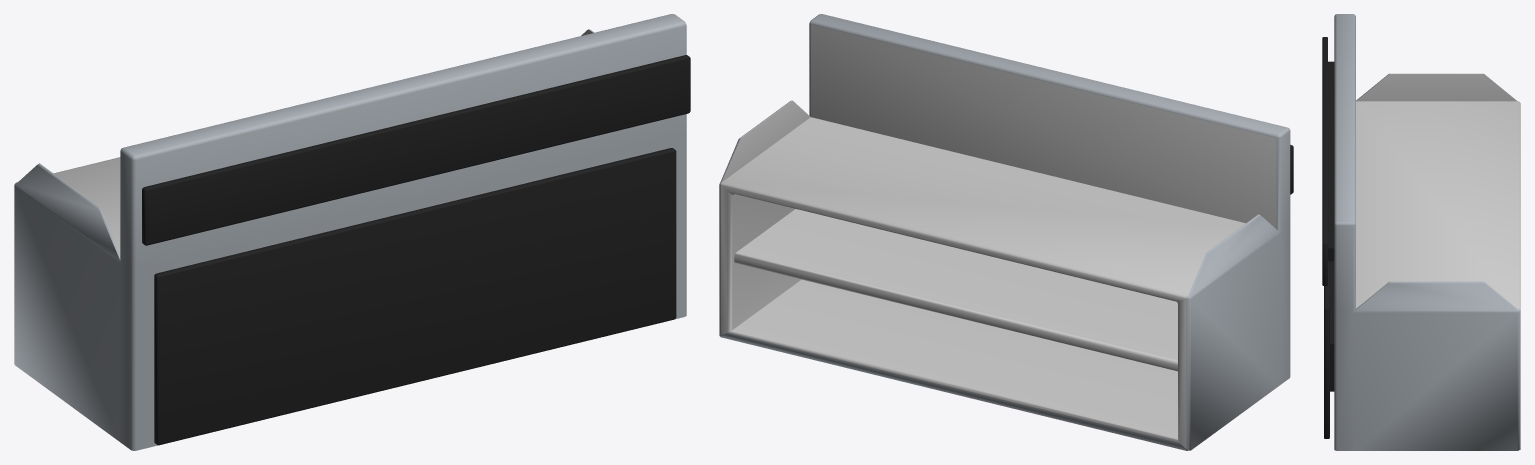
File: Vault-Section-Cabinet-3.fbx
3 renders of one model, left to right at view 1: azimuth 30°, elevation 25°; view 2: azimuth 150°, elevation 25°; view 3: azimuth 270°, elevation 25°, orthographic. The views are drawn at different scales.
Parts seen in each view (by area): view 1: Vault-Section-Cabinet-2; view 2: Vault-Section-Cabinet-2; view 3: Vault-Section-Cabinet-2.
Boxes of the visible parts, box(x1,y1,x2,y2) form: Vault-Section-Cabinet-2: box(14, 14, 690, 450); Vault-Section-Cabinet-2: box(719, 14, 1293, 450); Vault-Section-Cabinet-2: box(1322, 14, 1520, 450).
Bounding box in the file's own units: 2 × 1.01 × 0.7978.
